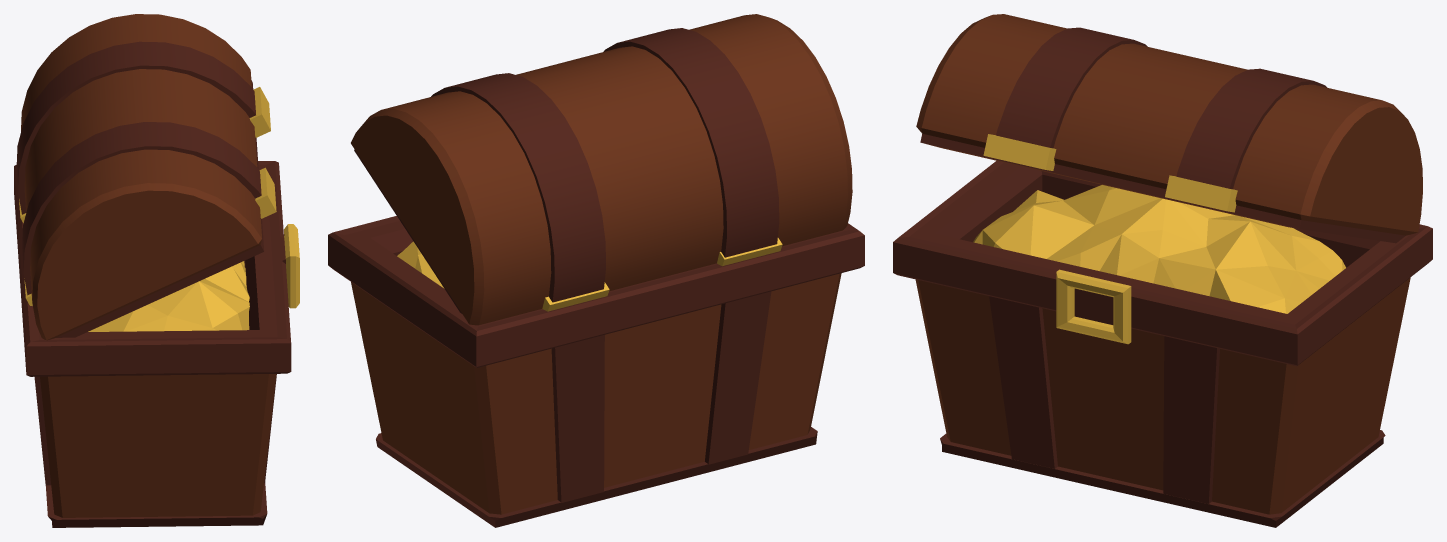
Rendered from PrototypeChest.fbx.
3 renders of one model, left to right at view 1: azimuth 30°, elevation 25°; view 2: azimuth 150°, elevation 25°; view 3: azimuth 270°, elevation 25°, orthographic. The views are drawn at different scales.
Parts seen in each view (by area): view 1: Chest_Lid, Chest_Bottom, Chest_Gold; view 2: Chest_Lid, Chest_Bottom, Chest_Gold; view 3: Chest_Bottom, Chest_Lid, Chest_Gold.
Part boxes in pixels (x1,y1,x2,y2): Chest_Lid: (16,14,276,340); Chest_Bottom: (14,161,299,527); Chest_Gold: (88,261,249,331); Chest_Lid: (351,14,852,325); Chest_Bottom: (328,216,864,527); Chest_Gold: (397,241,444,288); Chest_Bottom: (893,160,1432,527); Chest_Lid: (916,14,1422,243); Chest_Gold: (973,185,1345,313).
Size of the model in its own units: 385 by 347 by 443.
